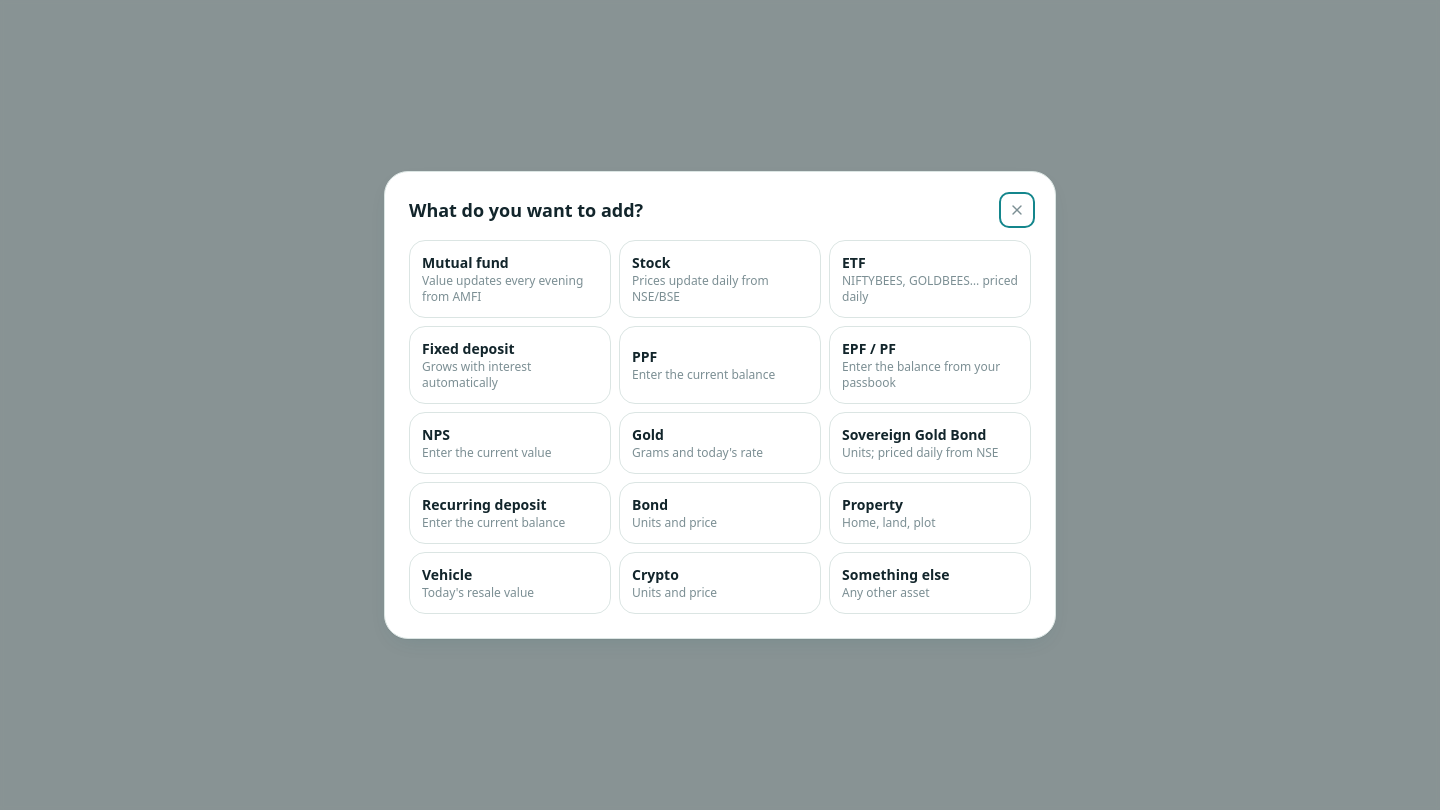
Scenario: adding an asset › asks what kind, then shows the right fields and a live value
expect the heading "What do you want to add?" is shown: met, box [409, 196, 643, 224]
Click the button "Gold Grams and today's rate" at point(720, 443), box [619, 412, 821, 474]
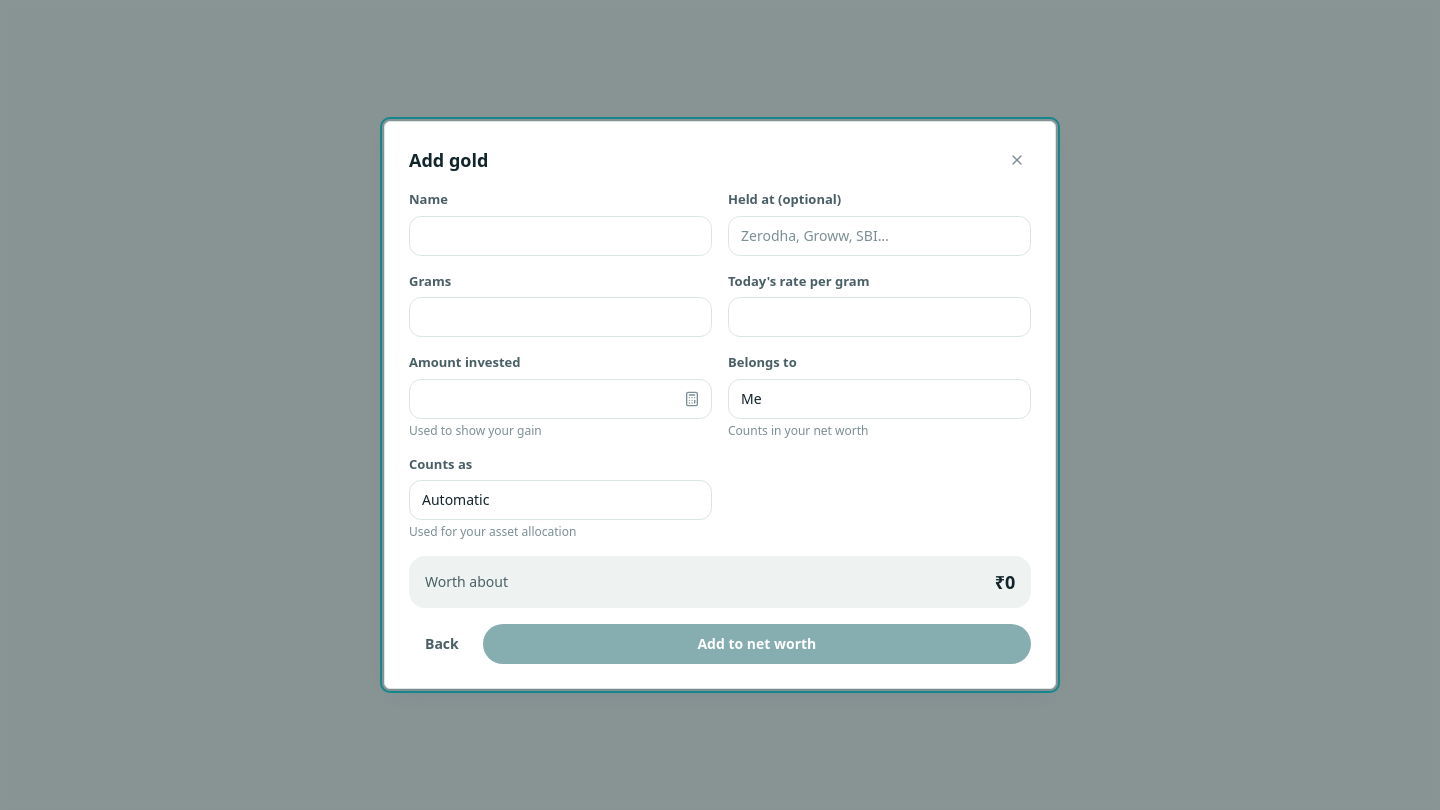
Type "10" into the field labelled "Grams" at point(560, 317), box [409, 297, 712, 337]
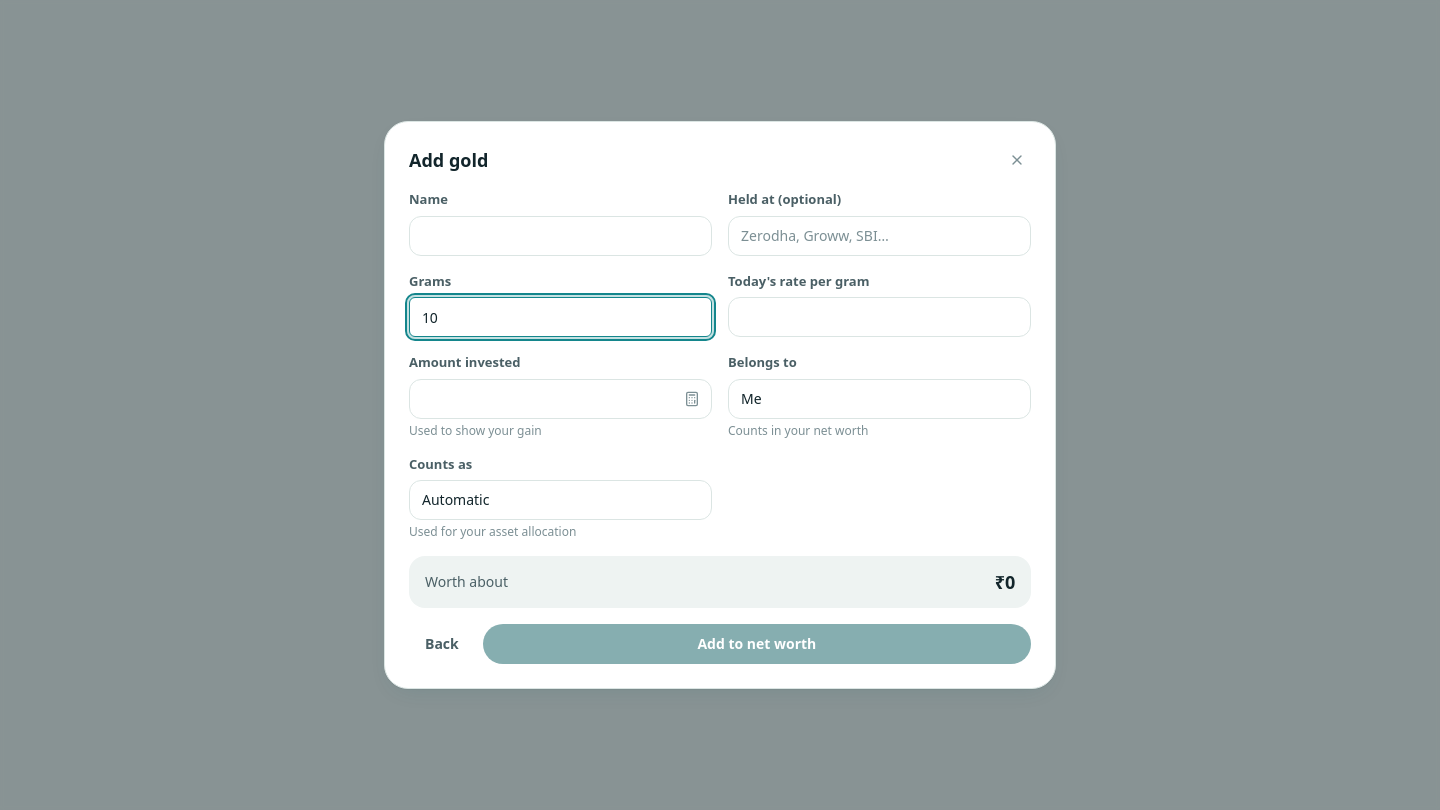
Type "7650" into the field labelled "Today's rate per gram" at point(880, 317), box [728, 297, 1031, 337]
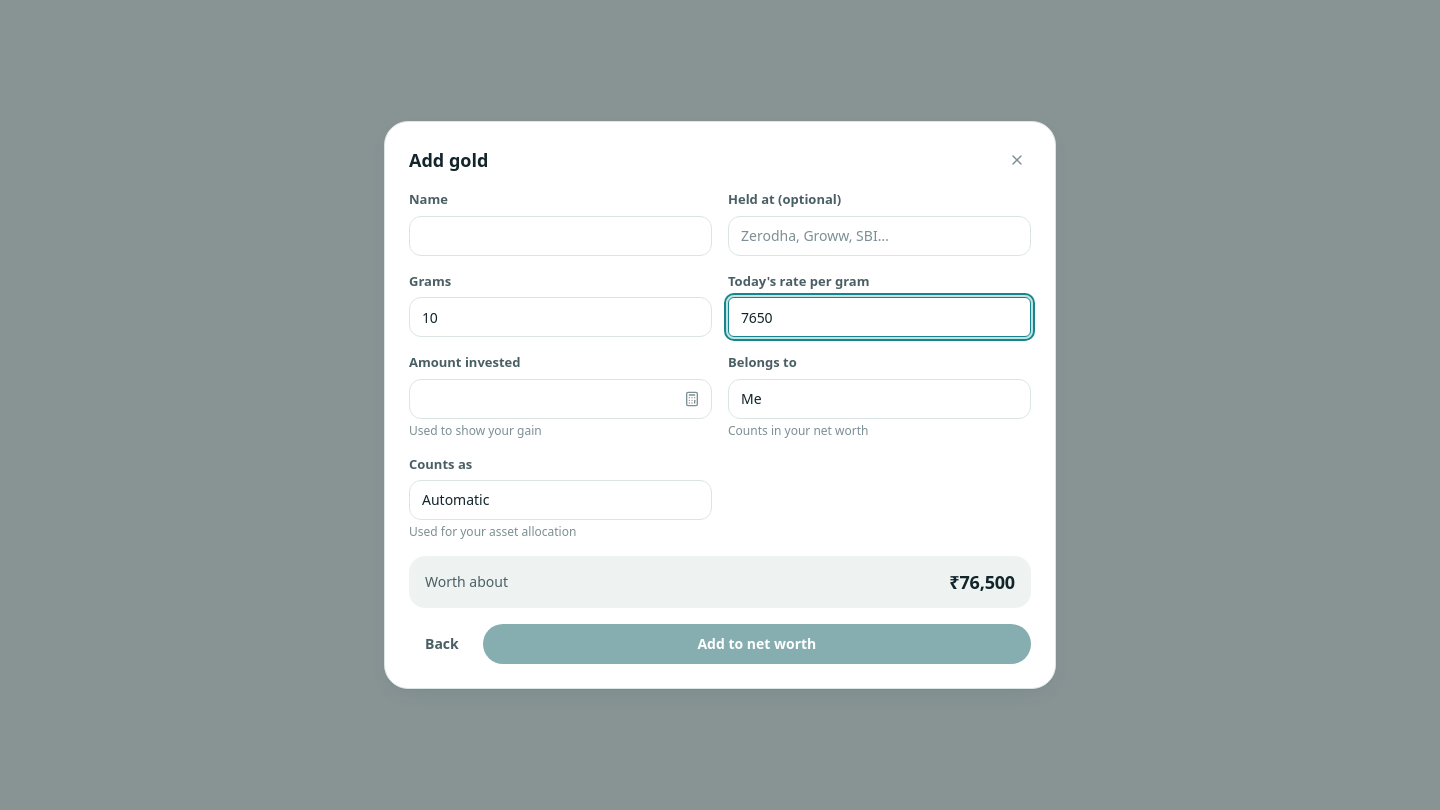
expect the text "₹76,500" is shown: met, box [949, 568, 1015, 596]
